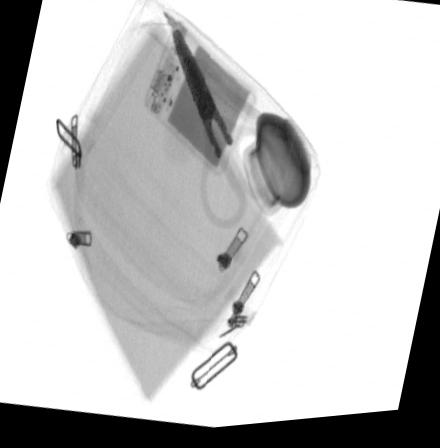Powerbank: (140, 30, 257, 183)
Scissors: (168, 26, 283, 235)
